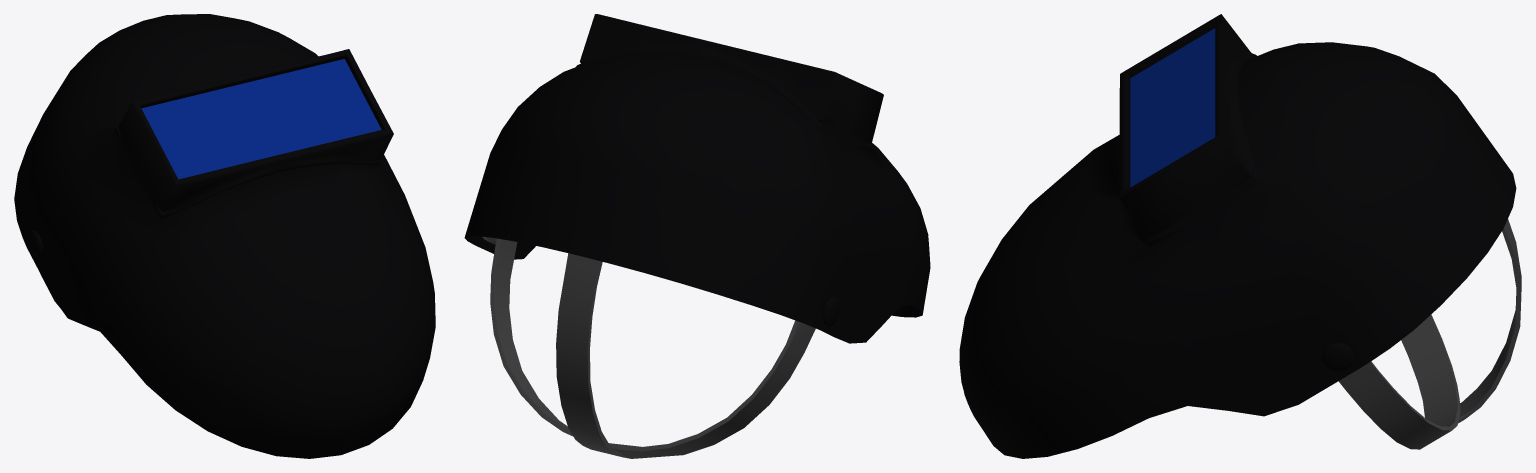
The model's file is welding_mask.FBX.
The picture shows the model from 3 angles, left to right: view 1: azimuth 30°, elevation 25°; view 2: azimuth 150°, elevation 25°; view 3: azimuth 270°, elevation 25°; orthographic projection. The views are drawn at different scales.
Visible parts, largest first — view 1: Object001; view 2: Object001; view 3: Object001.
Part boxes in pixels (x1,y1,x2,y2): Object001: (14,14,435,458); Object001: (464,14,930,458); Object001: (959,14,1521,458).
Size of the model in its own units: 2.17 by 2.06 by 2.87.
